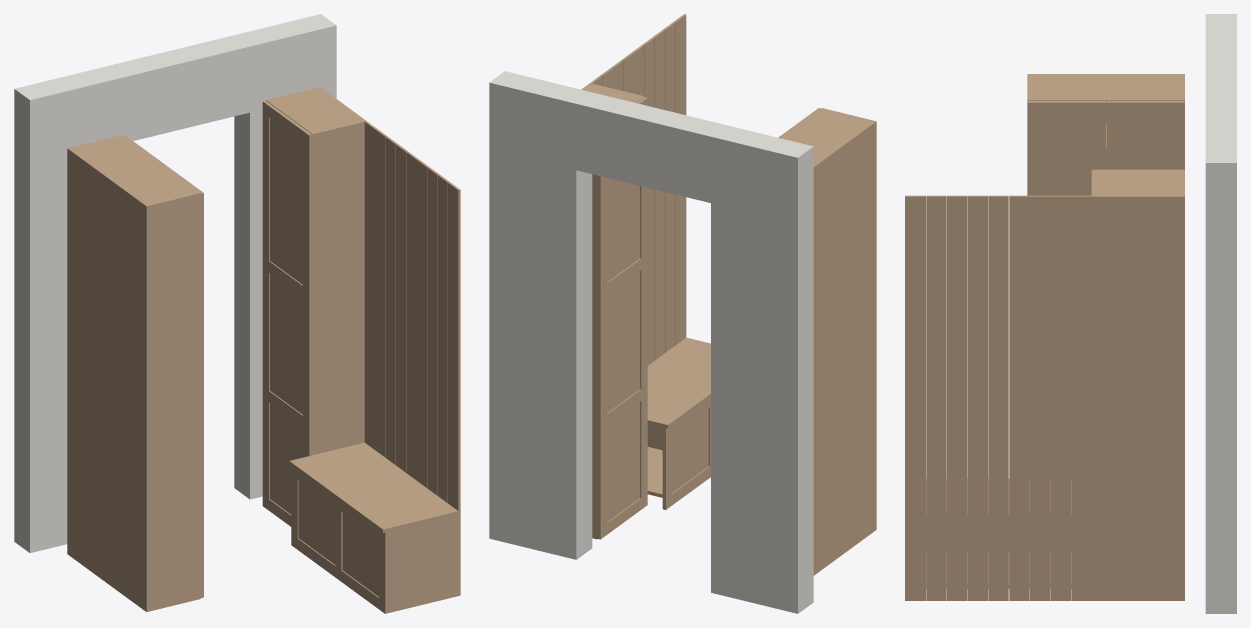
The model's file is shoe-storage-palmers-green.glb.
The picture shows the model from 3 angles, left to right: view 1: azimuth 30°, elevation 25°; view 2: azimuth 150°, elevation 25°; view 3: azimuth 270°, elevation 25°; orthographic projection.
Visible parts, largest first — view 1: Room: Wall with the hall door, Tall cupboard: Back, Tall cupboard: Side, left, Shoe cupboard: Side, right, Shoe cupboard: Door (hinged left), Bench seat: Seat, Shoe cupboard: Door (hinged left): frame, Bench seat: End panel, Bench seat: Front, Panelling: Board 9, Tall cupboard: Top, Panelling: Board 6 (+12 smaller); view 2: Room: Wall with the hall door, Tall cupboard: Back, Shoe cupboard: Door (hinged left), Shoe cupboard: Door (hinged left): frame, Bench seat: Seat, Panelling: Board 9, Panelling: Board 7, Panelling: Board 8, Tall cupboard: Top, Bench seat: Front, Shoe cupboard: Side, left, Panelling: Board 6 (+4 smaller); view 3: Shoe cupboard: Back, Room: Wall with the hall door, Panelling: Board 1, Panelling: Board 4, Panelling: Board 5, Panelling: Board 8, Panelling: Board 9, Panelling: Board 2, Panelling: Board 3, Panelling: Board 6, Panelling: Board 7, Tall cupboard: Door, left (hinged left) (+7 smaller).
Boxes of the visible parts, x1,y1,x2,y2 form: Room: Wall with the hall door: (14, 14, 336, 553); Tall cupboard: Back: (69, 153, 144, 606); Tall cupboard: Side, left: (144, 192, 200, 611); Shoe cupboard: Side, right: (311, 120, 366, 454); Shoe cupboard: Door (hinged left): (264, 101, 312, 514); Bench seat: Seat: (289, 442, 458, 532); Shoe cupboard: Door (hinged left): frame: (262, 101, 310, 526); Bench seat: End panel: (388, 514, 458, 612); Bench seat: Front: (298, 481, 388, 613); Panelling: Board 9: (448, 182, 460, 595); Tall cupboard: Top: (69, 136, 198, 207); Panelling: Board 6: (416, 159, 428, 487); Room: Wall with the hall door: (489, 71, 813, 613); Tall cupboard: Back: (813, 126, 874, 571); Shoe cupboard: Door (hinged left): (597, 97, 645, 539); Shoe cupboard: Door (hinged left): frame: (599, 97, 647, 539); Bench seat: Seat: (647, 337, 710, 428); Panelling: Board 9: (674, 14, 686, 344); Panelling: Board 7: (653, 29, 665, 360); Panelling: Board 8: (663, 22, 675, 352); Tall cupboard: Top: (781, 109, 874, 170); Bench seat: Front: (662, 408, 708, 509); Shoe cupboard: Side, left: (592, 174, 597, 539); Panelling: Board 6: (642, 37, 654, 365); Shoe cupboard: Back: (1095, 200, 1181, 597); Room: Wall with the hall door: (1205, 14, 1236, 613); Panelling: Board 1: (1071, 195, 1091, 600); Panelling: Board 4: (1009, 195, 1029, 600); Panelling: Board 5: (988, 195, 1008, 600); Panelling: Board 8: (926, 195, 946, 600); Panelling: Board 9: (905, 195, 925, 600); Panelling: Board 2: (1050, 195, 1070, 600); Panelling: Board 3: (1030, 195, 1050, 600); Panelling: Board 6: (967, 195, 987, 600); Panelling: Board 7: (947, 195, 967, 600); Tall cupboard: Door, left (hinged left): (1027, 101, 1105, 478).
Bounding box in the file's own units: 1.7 × 2.4 × 1.6.
